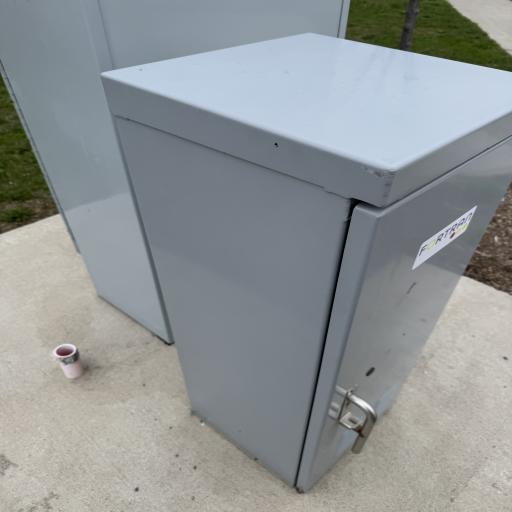Electrical Box: (101, 31, 512, 491)
